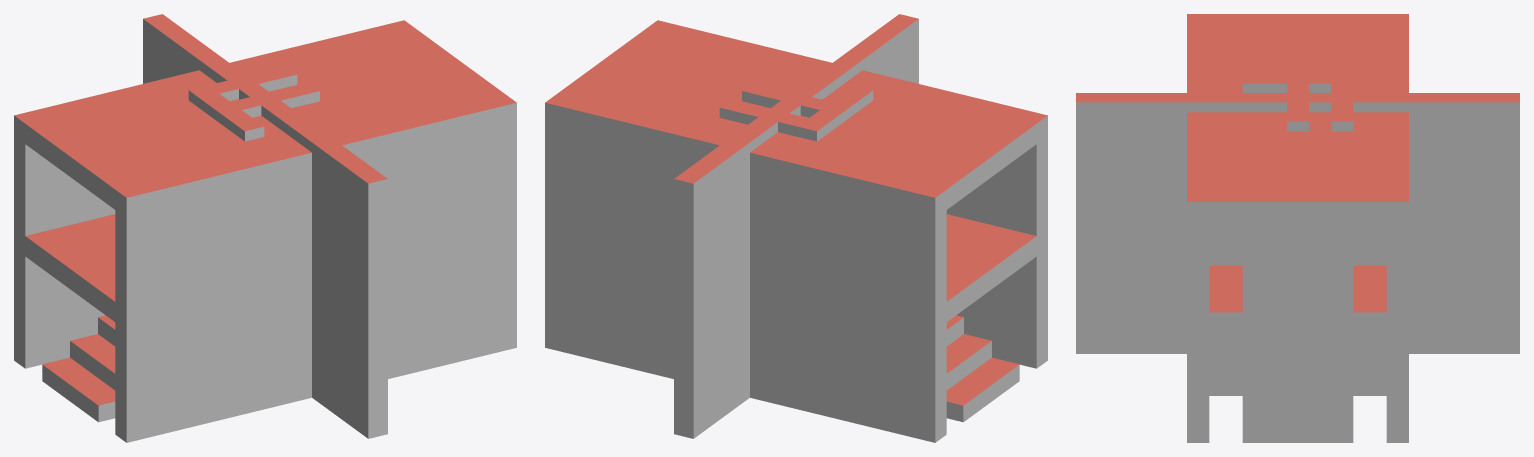
File: Collection.fbx
The picture shows the model from 3 angles, left to right: view 1: azimuth 30°, elevation 25°; view 2: azimuth 150°, elevation 25°; view 3: azimuth 270°, elevation 25°; orthographic projection.
Parts seen in each view (by area): view 1: Tunel 2x4x2.3, Tunel 2x4x1.3, Wall hole 4x.2x2.5, Wall 4x.2x2.5, Tunel angle 2x2x2.3, Stairs 1x4x2.3, Tunel angle 2x2x1.3, Wall angle 1x.2x2.5, Wall intersection 4 1x.2x2.5, Wall 2x.2x2.5, Tunel bifurcation 3 2x2x1.3; view 2: Tunel 2x4x2.3, Tunel angle 2x2x2.3, Tunel 2x4x1.3, Wall hole 4x.2x2.5, Wall 4x.2x2.5, Tunel angle 2x2x1.3, Stairs 1x4x2.3, Wall angle 1x.2x2.5, Wall intersection 4 1x.2x2.5, Wall 2x.2x2.5, Tunel bifurcation 3 2x2x2.3, Tunel bifurcation 3 2x2x1.3 (+1 smaller); view 3: Wall hole 4x.2x2.5, Tunel 2x4x2.3, Wall 4x.2x2.5, Stairs 1x4x2.3, Tunel 2x4x1.3, Tunel angle 2x2x1.3, Tunel angle 2x2x2.3, Wall angle 1x.2x2.5, Wall 2x.2x2.5, Wall intersection 4 1x.2x2.5.
Part boxes in pixels (x1=…): Tunel 2x4x2.3: x1=14, y1=20, x2=516, y2=442; Tunel 2x4x1.3: x1=14, y1=214, x2=516, y2=442; Wall hole 4x.2x2.5: x1=143, y1=14, x2=387, y2=438; Wall 4x.2x2.5: x1=143, y1=19, x2=368, y2=437; Tunel angle 2x2x2.3: x1=224, y1=143, x2=418, y2=416; Stairs 1x4x2.3: x1=42, y1=315, x2=115, y2=422; Tunel angle 2x2x1.3: x1=224, y1=265, x2=418, y2=418; Wall angle 1x.2x2.5: x1=188, y1=66, x2=297, y2=141; Wall intersection 4 1x.2x2.5: x1=211, y1=77, x2=319, y2=124; Wall 2x.2x2.5: x1=200, y1=55, x2=329, y2=140; Tunel bifurcation 3 2x2x1.3: x1=224, y1=254, x2=419, y2=413; Tunel 2x4x2.3: x1=545, y1=20, x2=1047, y2=442; Tunel angle 2x2x2.3: x1=642, y1=137, x2=837, y2=418; Tunel 2x4x1.3: x1=545, y1=214, x2=1047, y2=442; Wall hole 4x.2x2.5: x1=674, y1=14, x2=918, y2=438; Wall 4x.2x2.5: x1=693, y1=20, x2=918, y2=437; Tunel angle 2x2x1.3: x1=642, y1=239, x2=837, y2=418; Stairs 1x4x2.3: x1=946, y1=315, x2=1019, y2=422; Wall angle 1x.2x2.5: x1=719, y1=85, x2=873, y2=141; Wall intersection 4 1x.2x2.5: x1=742, y1=78, x2=849, y2=124; Wall 2x.2x2.5: x1=733, y1=55, x2=861, y2=151; Tunel bifurcation 3 2x2x2.3: x1=642, y1=137, x2=837, y2=412; Tunel bifurcation 3 2x2x1.3: x1=642, y1=239, x2=837, y2=415; Wall hole 4x.2x2.5: x1=1076, y1=93, x2=1519, y2=353; Tunel 2x4x2.3: x1=1187, y1=14, x2=1408, y2=442; Wall 4x.2x2.5: x1=1076, y1=102, x2=1519, y2=353; Stairs 1x4x2.3: x1=1242, y1=211, x2=1353, y2=442; Tunel 2x4x1.3: x1=1187, y1=265, x2=1408, y2=442; Tunel angle 2x2x1.3: x1=1209, y1=332, x2=1386, y2=395; Tunel angle 2x2x2.3: x1=1209, y1=221, x2=1386, y2=395; Wall angle 1x.2x2.5: x1=1242, y1=74, x2=1353, y2=131; Wall 2x.2x2.5: x1=1187, y1=93, x2=1408, y2=112; Wall intersection 4 1x.2x2.5: x1=1242, y1=74, x2=1350, y2=131.
Size of the model in its own units: 4 by 2.5 by 4.
